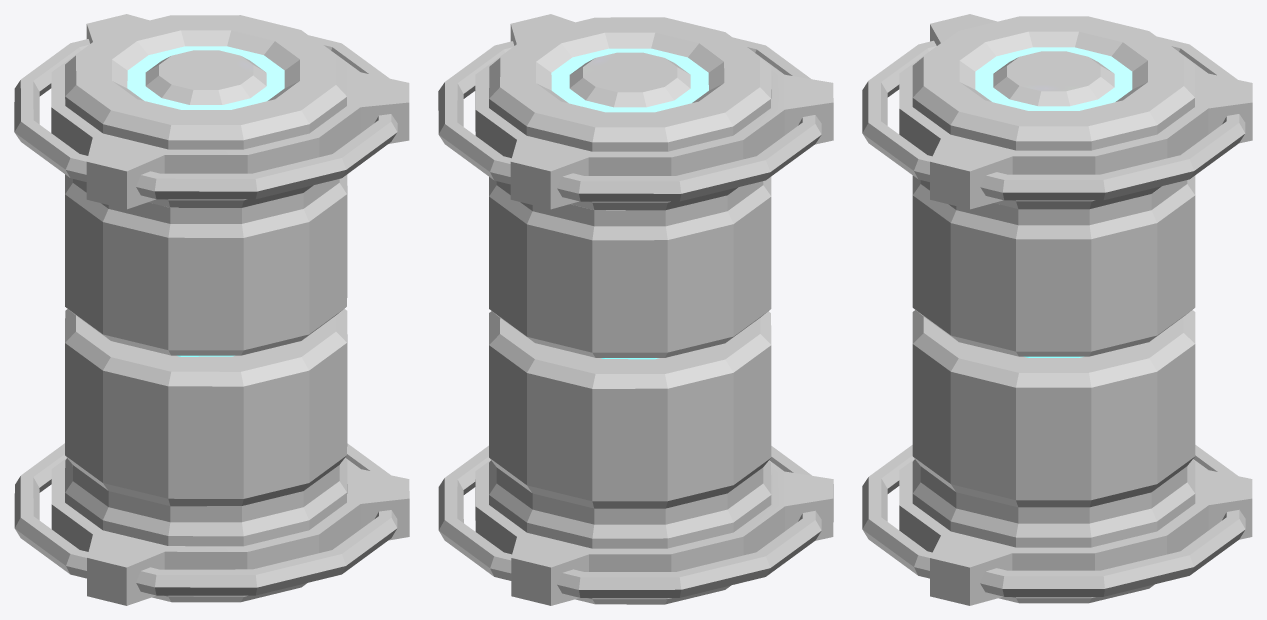
The model's file is entity345534.glb.
3 renders of one model, left to right at view 1: azimuth 30°, elevation 25°; view 2: azimuth 150°, elevation 25°; view 3: azimuth 270°, elevation 25°, orthographic.
Parts seen in each view (by area): view 1: node_SM_Prop_Crate_05 (2), node_SM_Prop_Crate_05_Lid_01; view 2: node_SM_Prop_Crate_05 (2), node_SM_Prop_Crate_05_Lid_01; view 3: node_SM_Prop_Crate_05 (2), node_SM_Prop_Crate_05_Lid_01.
Boxes of the visible parts, x1,y1,x2,y2 form: node_SM_Prop_Crate_05 (2): [14, 174, 409, 605]; node_SM_Prop_Crate_05_Lid_01: [14, 14, 409, 209]; node_SM_Prop_Crate_05 (2): [438, 177, 833, 605]; node_SM_Prop_Crate_05_Lid_01: [438, 14, 833, 210]; node_SM_Prop_Crate_05 (2): [862, 175, 1252, 605]; node_SM_Prop_Crate_05_Lid_01: [862, 14, 1252, 209].
Bounding box in the file's own units: 1.1 × 1.52 × 1.12.
